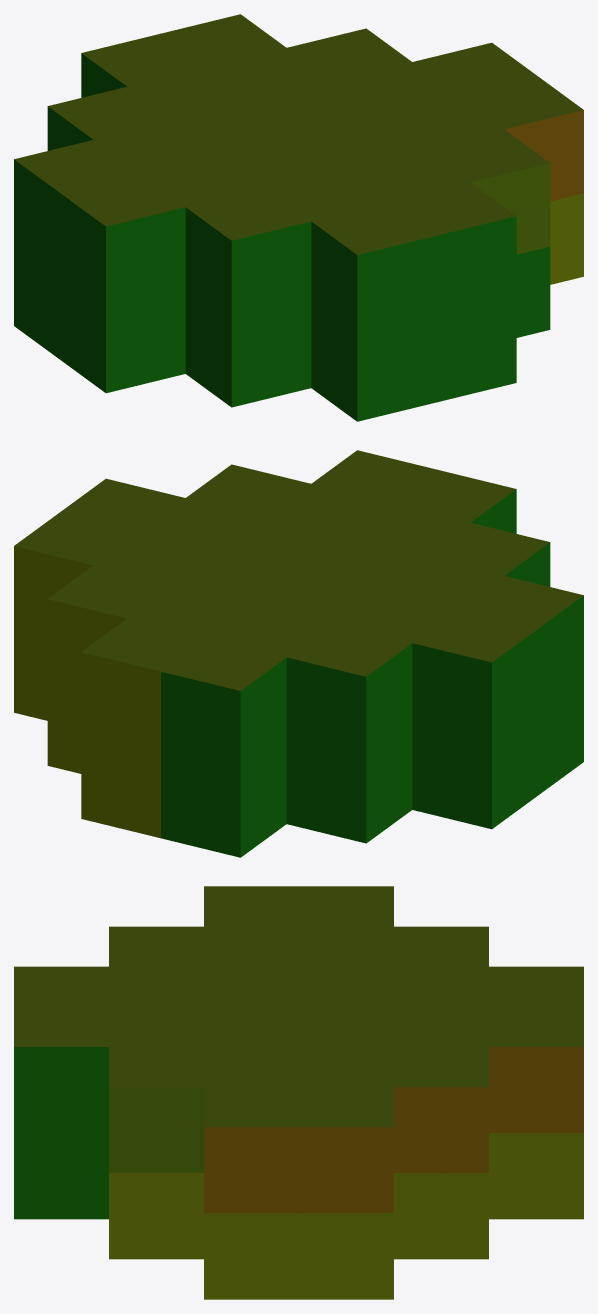
Rendered from block_18.fbx.
3 views of the same model, one above another, from view 1: azimuth 30°, elevation 25°; view 2: azimuth 150°, elevation 25°; view 3: azimuth 270°, elevation 25° (orthographic). The views are drawn at different scales.
Parts seen in each view (by area): view 1: box; view 2: box; view 3: box.
Part boxes in pixels (left/top/right/bottom): box: left=14, top=14, right=583, bottom=421; box: left=14, top=450, right=583, bottom=857; box: left=14, top=886, right=583, bottom=1299.
Bounding box in the file's own units: 600 × 600 × 200.
Materials: 1 (1 with a texture image).
